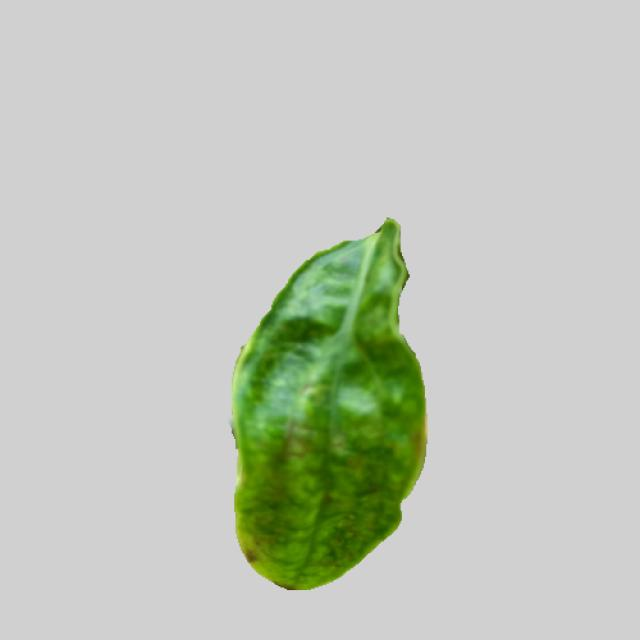yellow-mottle-virus: (205, 210, 453, 591)
